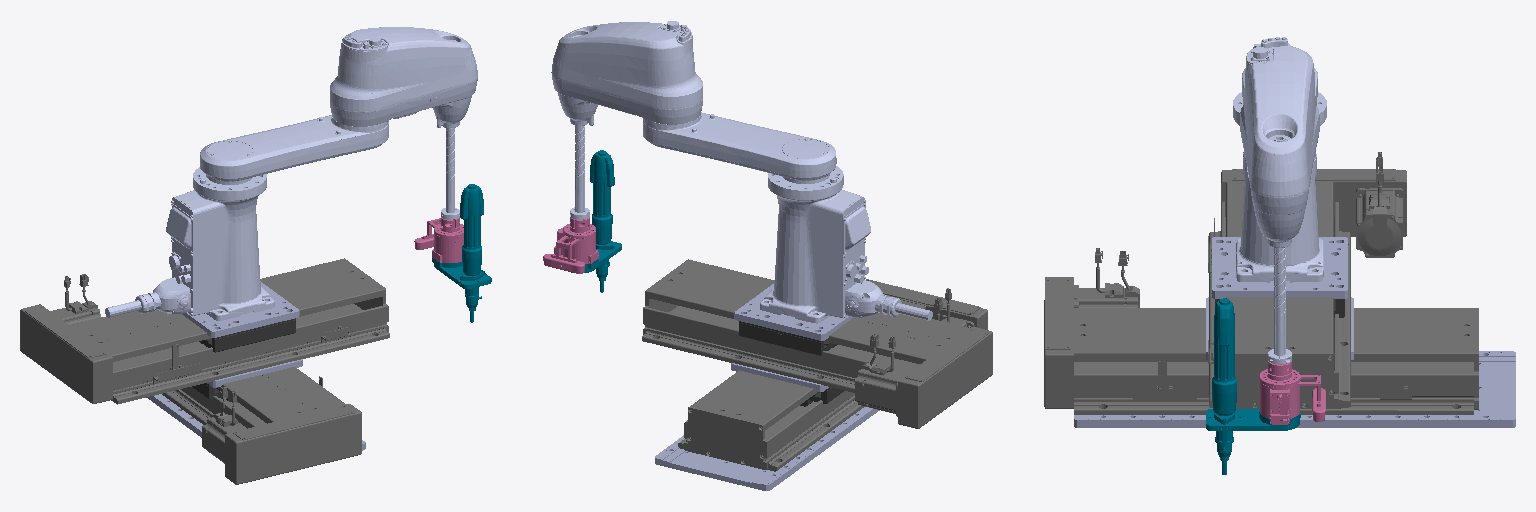
URDF robot description (base_DENSO):
<?xml version="1.0" encoding="utf-8"?>

<robot name="base_DENSO">

	<link name="world" />
	<joint name="world_to_base_DENSO" type="fixed">
		<origin xyz="-0.80034 0.81298 0" rpy="0 0 -1.5708"/>
		<parent link="world"/>
		<child link="base_DENSO"/>
		<axis xyz="0 0 0"/>
	</joint>
	
	<link name="base_DENSO">
		<visual>
			<geometry>
				<mesh filename="package://keti_workcell_description/meshes/base1.STL"/>
			</geometry>
			<material name="base_color">
				<color rgba="0.89 0.91 0.93 1" />
			</material>
		</visual>
	</link>
	<link name="add_axis_jig1">
		<visual>
			<geometry>
				<mesh filename="package://keti_workcell_description/meshes/add_axis_jig1.STL"/>
			</geometry>
			<material name="">
				<color rgba="0.69 0.71 0.83 1" />
			</material>
		</visual>
	</link>
	<joint name="base_DENSO_to_add_axis_jig1" type="fixed">
		<origin xyz="-0.02489 0.17061 0.8315" rpy="0 0 0"/>
		<parent link="base_DENSO"/>
		<child link="add_axis_jig1"/>
		<axis xyz="0 0 0"/>
	</joint>
	<link name="slider_base1">
		<visual>
			<geometry>
				<mesh filename="package://keti_workcell_description/meshes/slider_base.STL"/>
			</geometry>
			<material name="slider_base_color">
				<color rgba="0.5 0.5 0.5 1"/>
			</material>
		</visual>
	</link>
	<joint name="add_axis_jig1_to_slider_base1" type="fixed">
		<origin xyz="0.37507 0 0.05482" rpy="1.5709 0 -1.5709"/>
		<parent link="add_axis_jig1"/>
		<child link="slider_base1"/>
		<axis xyz="0 0 0"/>
	</joint>
	<link name="slider1">
		<visual>
			<geometry>
				<mesh filename="package://keti_workcell_description/meshes/slider.STL"/>	
			</geometry>
			<material name="">
				<color rgba="0.3 0.3 0.3 1"/>
			</material>
		</visual>
	</link>
	<joint name="s1" type="prismatic">
		<origin xyz="0 0 0" rpy="0 0 0"/>
		<parent link="slider_base1"/>
		<child link="slider1"/>
		<axis xyz="0 0 1"/>
		<limit lower="0.05" upper="0.45" effort="100" velocity="10" />
	</joint>
	<link name="add_axis_jig2">
		<visual>
			<geometry>
				<mesh filename="package://keti_workcell_description/meshes/add_axis_jig2.STL"/>
			</geometry>
			<material name="">
				<color rgba="0.69 0.71 0.83 1" />
			</material>
		</visual>
	</link>
	<joint name="slider1_to_add_axis_jig2" type="fixed">
		<origin xyz="0 0.05926 0.1" rpy="-1.5709 0 0"/>
		<parent link="slider1"/>
		<child link="add_axis_jig2"/>
		<axis xyz="0 0 0"/>
	</joint>
	<link name="slider_base2">
		<visual>
			<geometry>
				<mesh filename="package://keti_workcell_description/meshes/slider_base.STL"/>
			</geometry>
			<material name="slider_base_color"/>
		</visual>
	</link>
	<joint name="add_axis_jig2_to_slider_base2" type="fixed">
		<origin xyz="0.35 0 0.05482" rpy="1.5709 0 -1.5709"/>
		<parent link="add_axis_jig2"/>
		<child link="slider_base2"/>
		<axis xyz="0 0 0"/>
	</joint>
	<link name="slider2">
		<visual>
			<geometry>
				<mesh filename="package://keti_workcell_description/meshes/slider.STL"/>	
			</geometry>
			<material name="">
				<color rgba="0.3 0.3 0.3 1"/>
			</material>
		</visual>
	</link>
	<joint name="s2" type="prismatic">
		<origin xyz="0 0 0" rpy="0 0 0"/>
		<parent link="slider_base2"/>
		<child link="slider2"/>
		<axis xyz="0 0 1"/>
		<limit lower="0.05" upper="0.45" effort="100" velocity="10" />
	</joint>
	<link name="DENSO_jig">
		<visual>
			<geometry>
				<mesh filename="package://keti_workcell_description/meshes/DENSO_jig.STL"/>	
			</geometry>
			<material name="">
				<color rgba="0.69 0.71 0.83 1" />
			</material>
		</visual>
	</link>
	<joint name="slider2_to_DENSO_jig" type="fixed">
		<origin xyz="0 0.06276 0.1" rpy="-1.5709 0 0"/>
		<parent link="slider2"/>
		<child link="DENSO_jig"/>
		<axis xyz="0 0 0"/>
	</joint>
	<link name="d_link0">
		<visual>
			<geometry>
				<mesh filename="package://keti_workcell_description/meshes/DENSO/d_link0.STL" />
			</geometry>
			<material name="">
				<color rgba="0.79216 0.81961 0.93333 1" />
			</material>
		</visual>
	</link>
	<joint name="denso_jig_to_robot" type="fixed">
		<origin xyz="0 0 0" rpy="0 0 -1.5709"/>
		<parent link="DENSO_jig"/>
		<child link="d_link0"/>
		<axis xyz="0 0 0"/>
	</joint>
	<link name="d_link1">
		<visual>
			<geometry>
				<mesh filename="package://keti_workcell_description/meshes/DENSO/d_link1.STL" />
			</geometry>
			<material name="">
				<color rgba="0.79216 0.81961 0.93333 1" />
			</material>
		</visual>
	</link>
	<joint name="d_q1" type="revolute">
		<origin xyz="0 0 0.37011" rpy="0 0 0" />
		<parent link="d_link0" />
		<child link="d_link1" />
		<axis xyz="0 0 1" />
		<limit lower="-3.14" upper="3.14" effort="100" velocity="10" />
	</joint>
	<link name="d_link2">
		<visual>
			<geometry>
				<mesh filename="package://keti_workcell_description/meshes/DENSO/d_link2.STL" />
			</geometry>
			<material name="">
				<color rgba="0.792156862745098 0.819607843137255 0.933333333333333 1" />
			</material>
		</visual>
	</link>
	<joint name="d_q2" type="revolute">
		<origin xyz="0.325 0 0" rpy="0 0 0" />
		<parent link="d_link1" />
		<child link="d_link2" />
		<axis xyz="0 0 1" />
		<limit lower="-3.14" upper="3.14" effort="100" velocity="10" />
	</joint>
	<link name="d_link3">
		<visual>
			<geometry>
				<mesh filename="package://keti_workcell_description/meshes/DENSO/d_link3.STL" />
			</geometry>
			<material name="">
				<color rgba="0.79216 0.81961 0.93333 1" />
			</material>
		</visual>
	</link>
	<joint name="d_q3" type="prismatic">
		<origin xyz="0.225 0 0" rpy="3.1416 0 0" />
		<parent link="d_link2" />
		<child link="d_link3" />
		<axis xyz="0 0 1" />
		<limit lower="-0.206" upper="0.0" effort="100" velocity="10" />
	</joint>
	<link name="d_end"/>
	<joint name="d_q3_to_end" type="fixed">
		<origin xyz="0 0 0.32900" rpy="3.1416 0 0"/>
		<parent link="d_link3"/>
		<child link="d_end"/>
		<axis xyz="0 0 0"/>
	</joint>
	<link name="denso_tool_changer">
		<visual>
			<geometry>
				<mesh filename="package://keti_workcell_description/meshes/denso_tool_changer.STL"/>
			</geometry>
		</visual>
		<material name="">
			<color 	rgba="0.6587 0.128 0.778 1"/>
		</material>
	</link>
	<joint name="d_q4" type="revolute">
		<origin xyz="0 0 -0.001" rpy="0 0 0"/>
		<parent link="d_end"/>
		<child link="denso_tool_changer"/>
		<axis xyz="0 0 1"/>
		<limit lower="-3.14" upper="3.14" effort="100" velocity="10" />
	</joint>
	<link name="ATC">
		<visual>
			<geometry>
				<mesh filename="package://keti_workcell_description/meshes/ATC.STL"/>
			</geometry>
			<material name="ATC_color">
				<color rgba="0.0 0.5 0.6 1"/>
			</material>
		</visual>
	</link>
	<joint name="denso_tool_changer_to_ATC" type="fixed">
		<origin xyz="0 0 -0.06" rpy="3.1416 0 -1.5709"/>
		<parent link="denso_tool_changer"/>
		<child link="ATC"/>
		<axis xyz="0 0 0"/>
	</joint>
</robot>

--- Facts derived from the render (not from the file) ---
3 views of the same robot in one strip: view 1: azimuth 30°, elevation 25°; view 2: azimuth 150°, elevation 25°; view 3: azimuth 270°, elevation 25° (orthographic).
Model base_DENSO with 16 links and 15 joints (3 revolute, 3 prismatic, 9 fixed), rooted at world, posed all joints at 0 but 2 set to mid-range because 0 is outside their limits (s1 = 0.25, s2 = 0.25).
Links seen in each view (by area): view 1: slider_base2, slider_base1, d_link0, d_link2, d_link1, ATC, DENSO_jig, denso_tool_changer, slider2, d_link3, add_axis_jig1, add_axis_jig2; view 2: slider_base2, d_link0, slider_base1, d_link2, d_link1, add_axis_jig1, ATC, denso_tool_changer, DENSO_jig, slider2, d_link3, add_axis_jig2; view 3: slider_base1, slider_base2, d_link2, add_axis_jig1, d_link0, ATC, DENSO_jig, denso_tool_changer, d_link3.
Boxes of the visible links, x1,y1,x2,y2 form: slider_base2: [20, 258, 389, 404]; slider_base1: [162, 367, 361, 484]; d_link0: [105, 167, 274, 320]; d_link2: [330, 27, 477, 127]; d_link1: [200, 115, 388, 184]; ATC: [432, 184, 491, 322]; DENSO_jig: [182, 281, 299, 337]; denso_tool_changer: [414, 217, 463, 262]; slider2: [199, 318, 295, 352]; d_link3: [441, 40, 459, 219]; add_axis_jig1: [146, 394, 365, 450]; add_axis_jig2: [207, 359, 302, 387]; slider_base2: [642, 259, 992, 428]; d_link0: [760, 166, 932, 323]; slider_base1: [678, 279, 987, 471]; d_link2: [551, 21, 702, 125]; d_link1: [643, 112, 836, 183]; add_axis_jig1: [655, 407, 879, 490]; ATC: [571, 150, 621, 292]; denso_tool_changer: [543, 216, 598, 273]; DENSO_jig: [734, 284, 853, 340]; slider2: [739, 321, 837, 355]; d_link3: [570, 35, 589, 219]; add_axis_jig2: [731, 363, 828, 391]; slider_base1: [1044, 248, 1478, 414]; slider_base2: [1208, 152, 1406, 408]; d_link2: [1240, 37, 1319, 247]; add_axis_jig1: [1074, 351, 1515, 427]; d_link0: [1233, 92, 1326, 282]; ATC: [1206, 298, 1300, 474]; DENSO_jig: [1212, 237, 1347, 298]; denso_tool_changer: [1259, 361, 1325, 424]; d_link3: [1268, 135, 1291, 364].
Bounding box of the posed robot: 1.01 × 0.8 × 0.8047 m (x, y, z).
13 mesh visuals loaded from 12 distinct referenced files (11 binary STL); not drawn: 1 (reference not matched to a file when rendering).